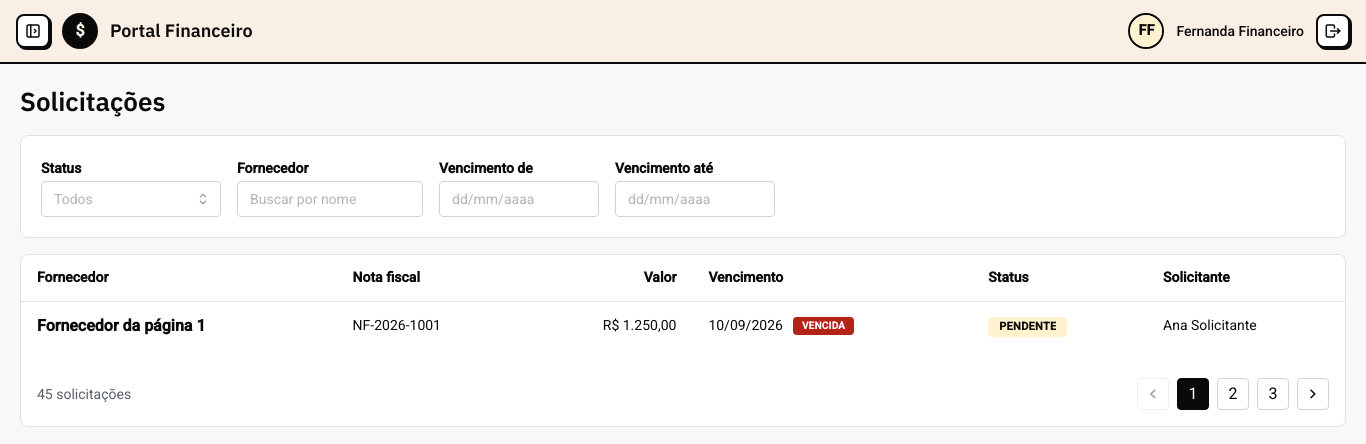
RequestListPage › pagination uses the API total_pages and the page goes to the URL
The image size is (1366, 444).
Expected: the link "Fornecedor da página 1" is shown, [37, 316, 206, 335]
Click the button "2" at (1233, 394), box [1217, 378, 1249, 410]
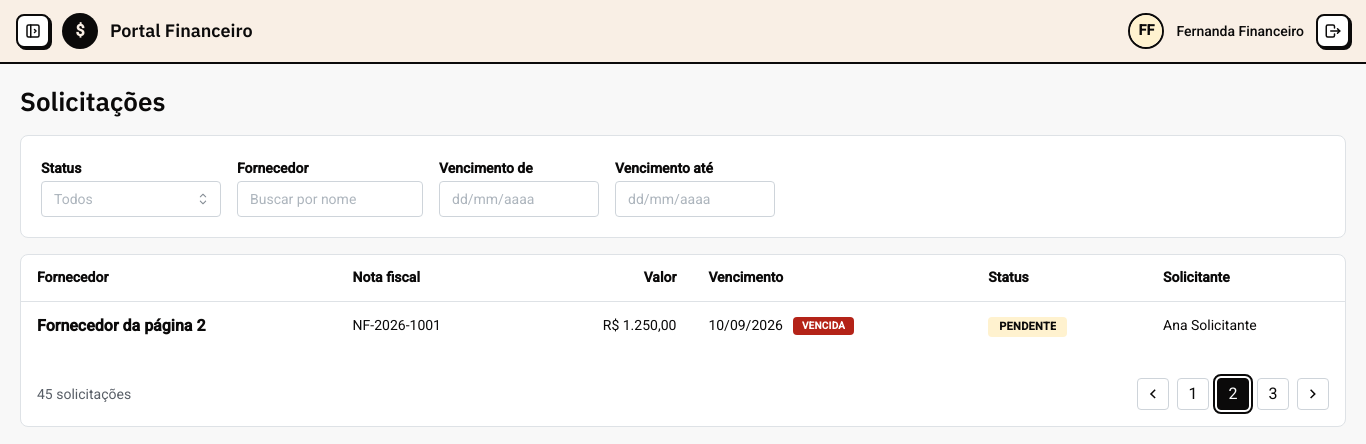
Now the link "Fornecedor da página 2" is shown, box [37, 316, 206, 335]
